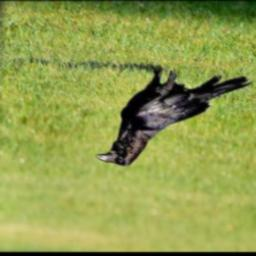Crow: (92, 64, 253, 169)
